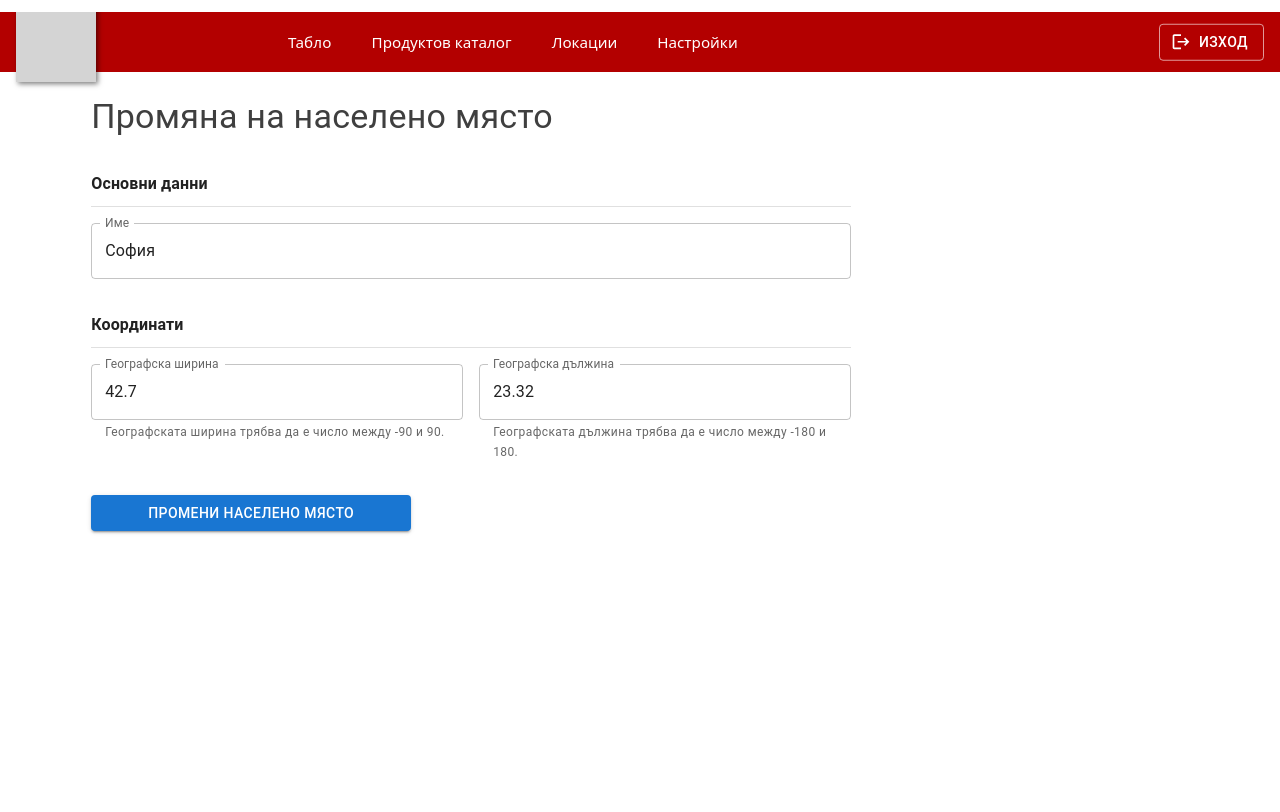
Test: Edit settlement page › surfaces a duplicate-name error when the API responds with 409
Expected: the field showing "София" is shown, [91,223,851,279]
Step 1. Click the button "Промени населено място" → (251, 513), box [91,495,411,531]
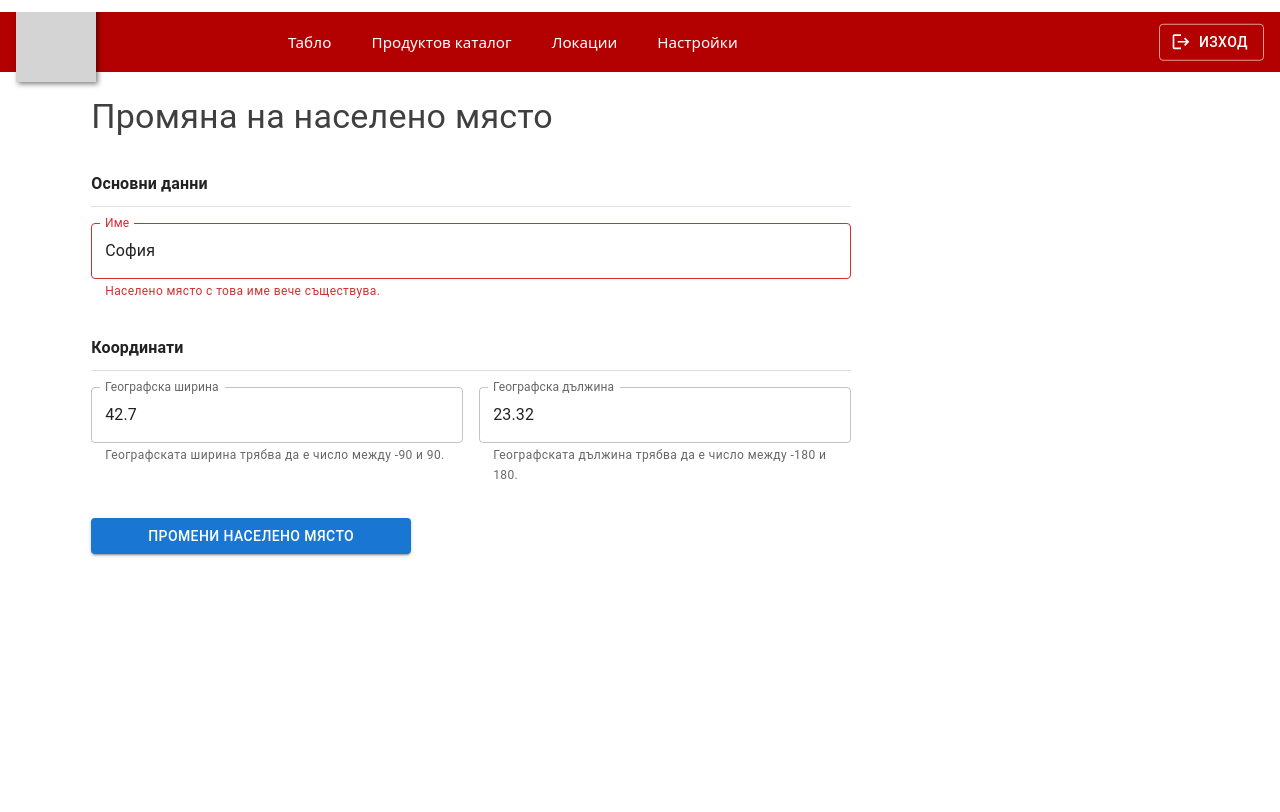
Now the text "Населено място с това име вече съществува." is shown, box [105,284,380,298]
